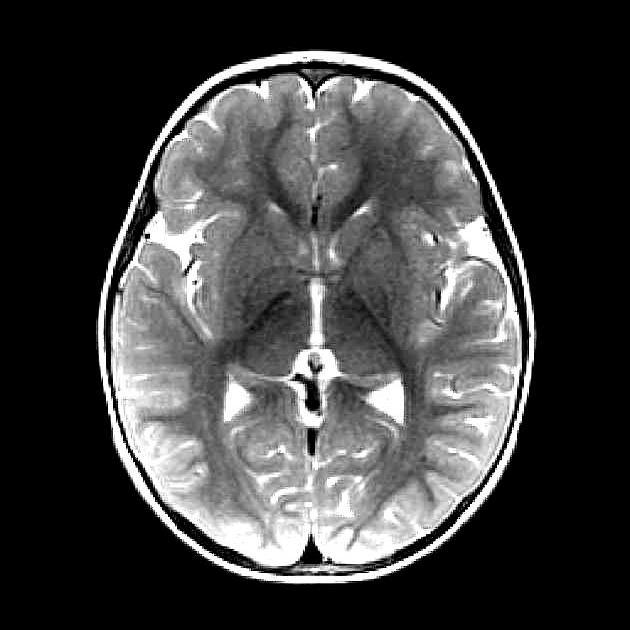Normal_Brain: (86, 35, 586, 630)
